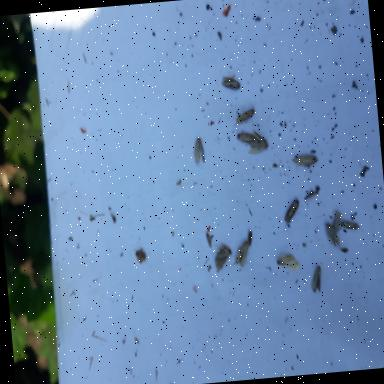pbw: (282, 198, 302, 232), (231, 103, 256, 128), (246, 130, 269, 154), (324, 222, 342, 248), (234, 241, 251, 268), (276, 254, 300, 272), (292, 155, 320, 169), (192, 138, 206, 164), (221, 74, 241, 92), (236, 130, 259, 145), (311, 266, 323, 294), (331, 211, 343, 233), (340, 220, 360, 231), (206, 232, 213, 249)
